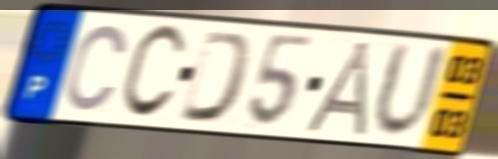5: (244, 31, 319, 133)
A: (300, 39, 373, 140)
C: (116, 21, 189, 124), (62, 21, 130, 115)
D: (175, 27, 257, 127)
U: (369, 38, 453, 144)
